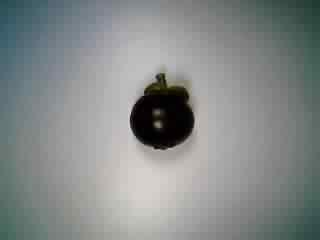mangosteen: (124, 69, 199, 155)
